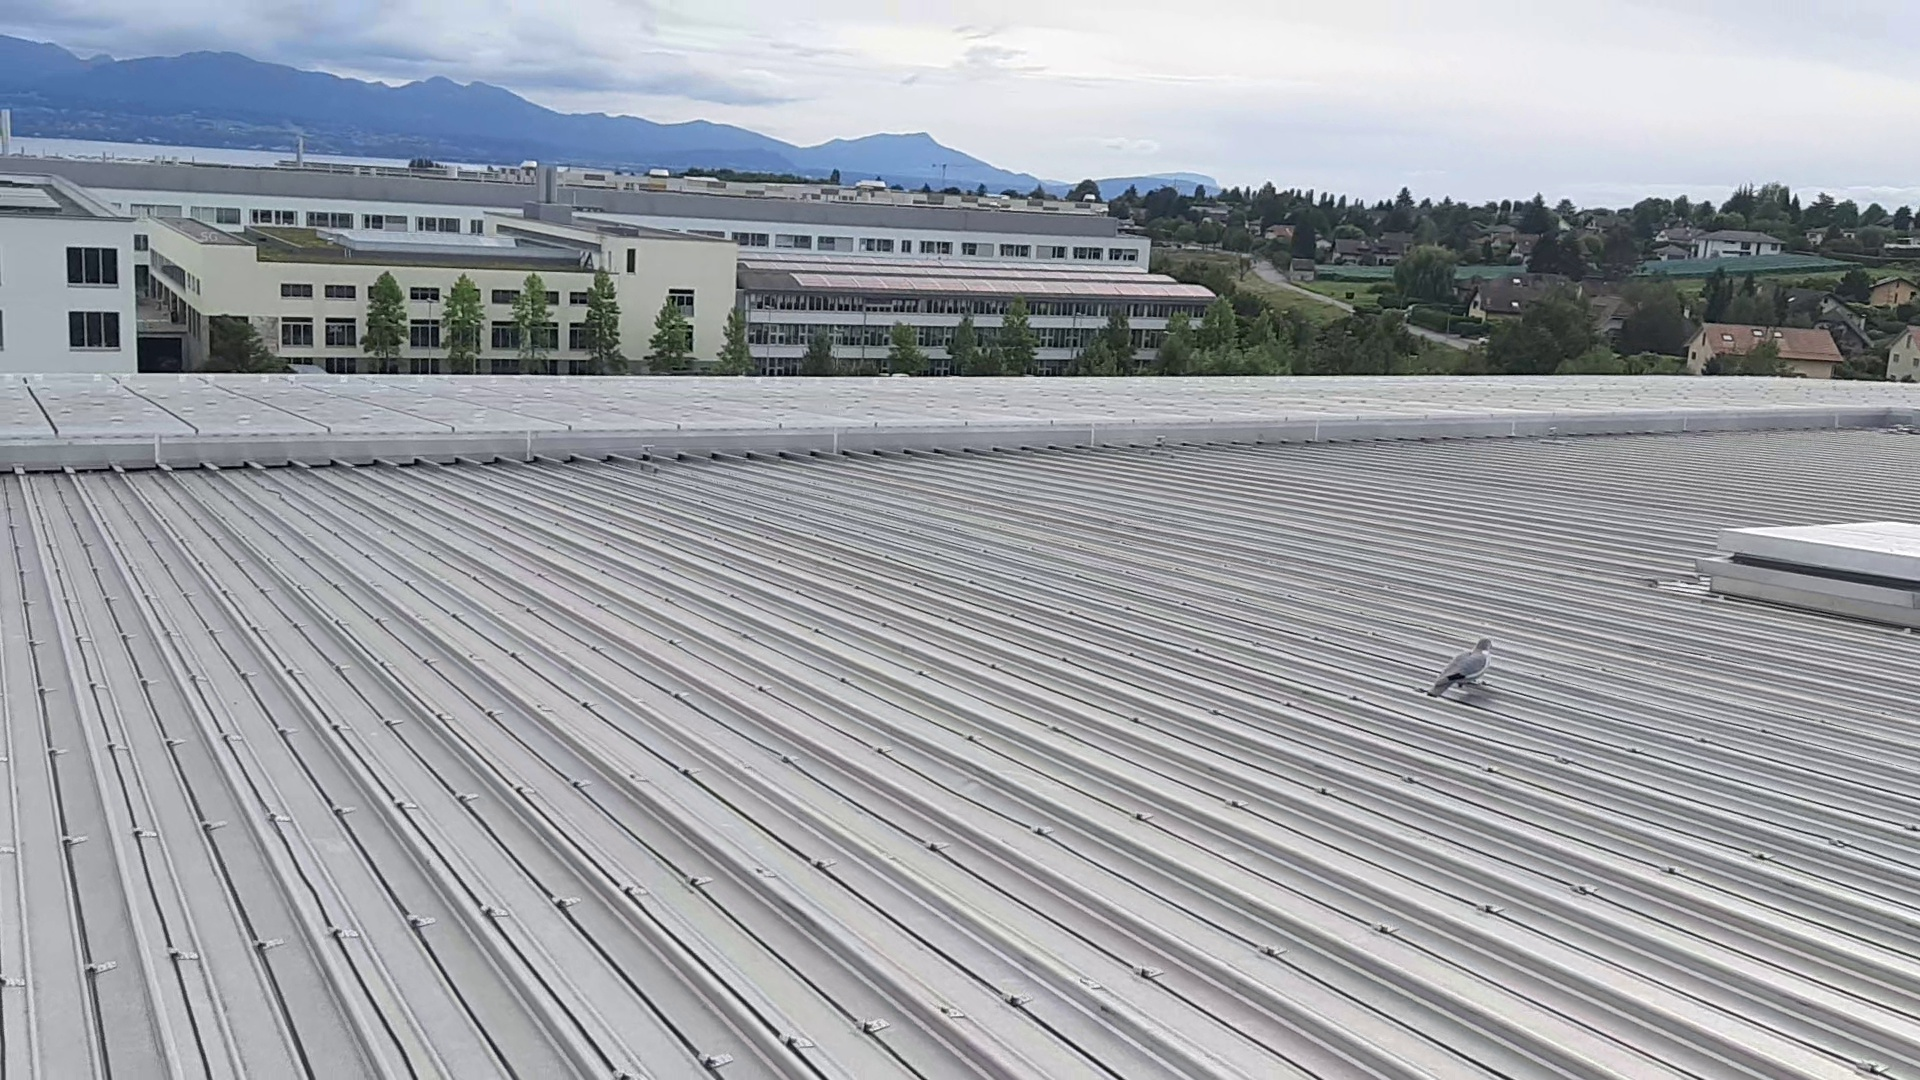Pigeon: (1425, 628, 1497, 702)
